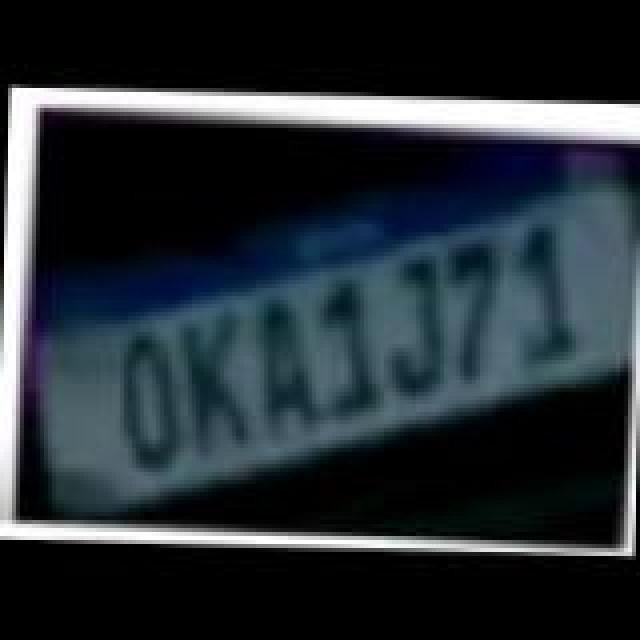1: (304, 268, 392, 416), (504, 218, 584, 366)
7: (434, 234, 518, 382)
A: (242, 288, 330, 432)
J: (370, 250, 454, 402)
K: (168, 298, 268, 450)
O: (106, 324, 194, 472)
